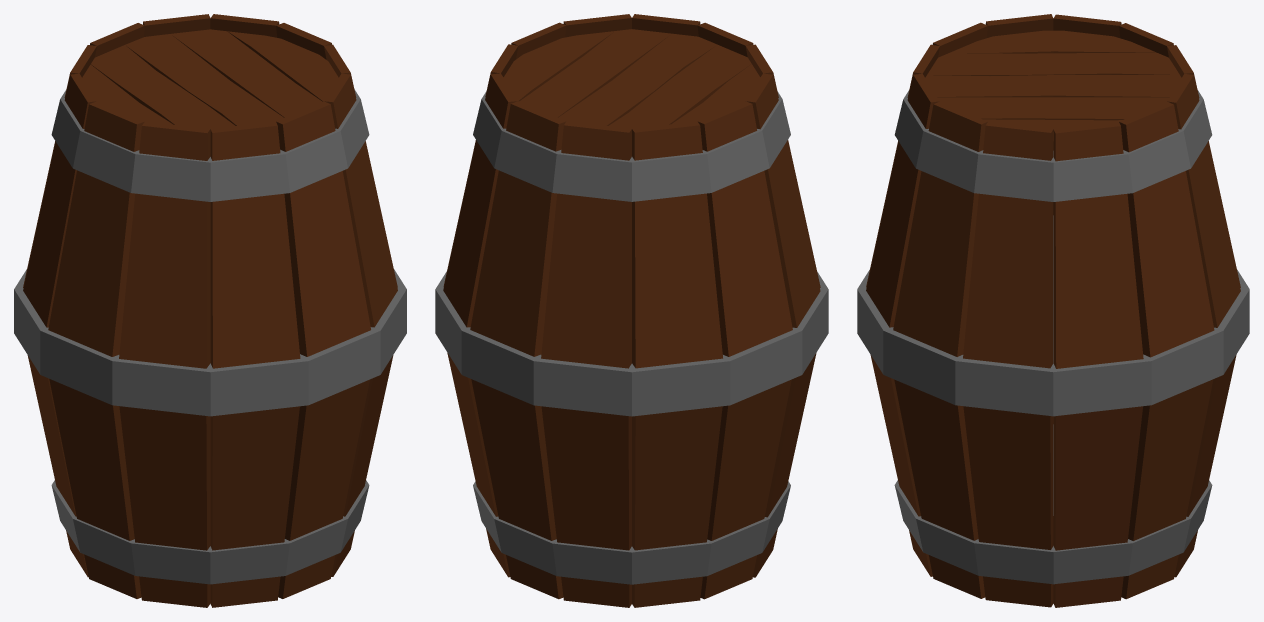
File: Barrel 1.fbx
3 views of the same model, side by side, from view 1: azimuth 30°, elevation 25°; view 2: azimuth 150°, elevation 25°; view 3: azimuth 270°, elevation 25° (orthographic).
Visible parts, largest first — view 1: Cube, Cylinder, Cylinder.001, Cylinder.003, Cube.012, Cube.013, Cube.014, Cube.015, Cube.016; view 2: Cube, Cylinder, Cylinder.001, Cylinder.003, Cube.012, Cube.013, Cube.014, Cube.015, Cube.016; view 3: Cube, Cylinder, Cylinder.001, Cylinder.003, Cube.012, Cube.014, Cube.013, Cube.016, Cube.015.
Part boxes in pixels (x1,y1,x2,y2): Cube: [23, 14, 397, 607]; Cylinder: [14, 269, 406, 416]; Cylinder.001: [51, 89, 369, 201]; Cylinder.003: [51, 480, 369, 584]; Cube.012: [125, 34, 283, 125]; Cube.013: [171, 29, 322, 117]; Cube.014: [90, 45, 235, 128]; Cube.015: [227, 31, 338, 101]; Cube.016: [82, 64, 172, 124]; Cube: [443, 14, 820, 607]; Cylinder: [435, 271, 828, 416]; Cylinder.001: [473, 91, 790, 201]; Cylinder.003: [473, 481, 790, 584]; Cube.012: [558, 33, 717, 125]; Cube.013: [519, 29, 671, 117]; Cube.014: [609, 44, 751, 128]; Cube.015: [503, 31, 614, 101]; Cube.016: [672, 64, 760, 124]; Cube: [866, 14, 1240, 607]; Cylinder: [857, 215, 1249, 416]; Cylinder.001: [894, 90, 1212, 201]; Cylinder.003: [894, 424, 1212, 584]; Cube.012: [925, 75, 1181, 97]; Cube.014: [927, 53, 1179, 75]; Cube.013: [938, 97, 1168, 120]; Cube.016: [950, 30, 1156, 53]; Cube.015: [983, 119, 1121, 150].
Bounding box in the file's own units: 150 × 200 × 150.
